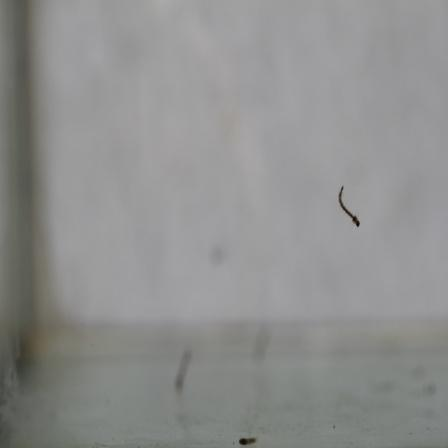Jentik-Nyamuk: (334, 180, 364, 232), (232, 433, 262, 448)
